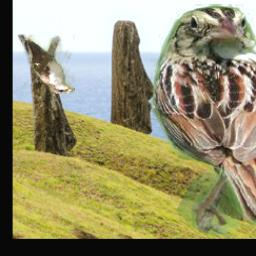Cuckoo: (18, 35, 75, 95)
Sparrow: (151, 4, 256, 238)
